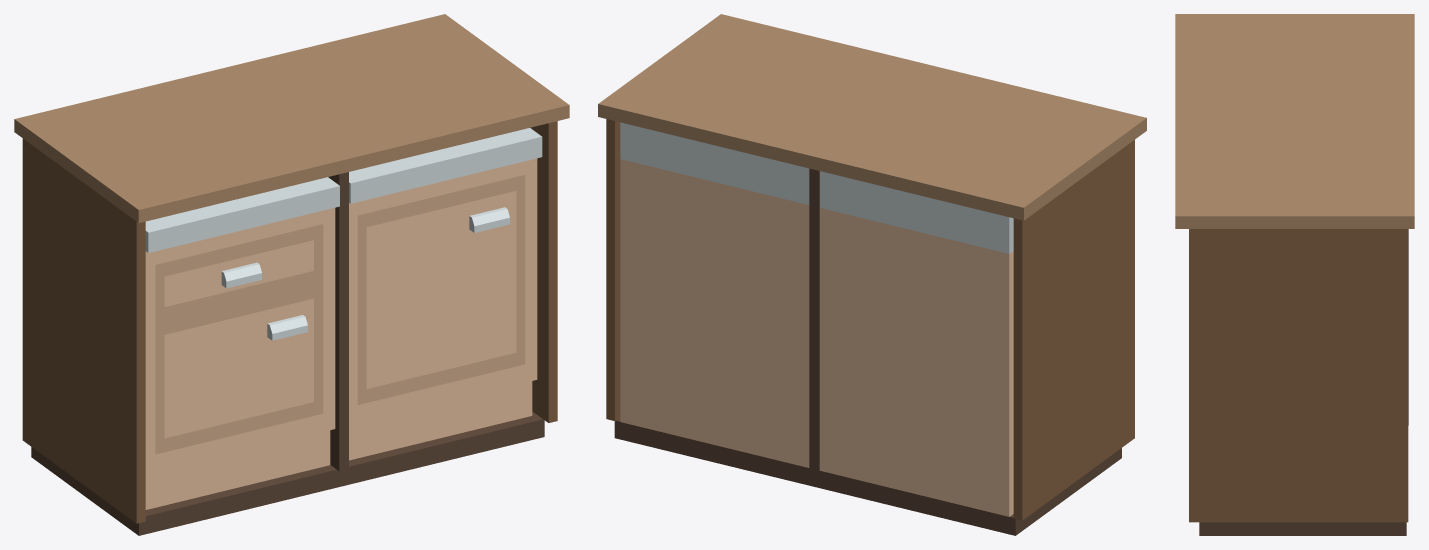
3 views of the same model, side by side, from view 1: azimuth 30°, elevation 25°; view 2: azimuth 150°, elevation 25°; view 3: azimuth 270°, elevation 25° (orthographic). The views are drawn at different scales.
Parts seen in each view (by area): view 1: countertop, Mesh_door (×2), left-end-panel, Mesh_kitchenCabinetDrawer_1, Mesh_kitchenCabinet_1, Mesh_door_1 (×2), wood-plinth, Mesh_kitchenCabinetDrawer, right-end-panel, Mesh_kitchenCabinet, Mesh_drawer, center-stile (+3 smaller); view 2: countertop, Mesh_kitchenCabinetDrawer_1, Mesh_kitchenCabinet_1, left-end-panel, wood-plinth, Mesh_kitchenCabinetDrawer, Mesh_kitchenCabinet, right-end-panel, center-stile; view 3: right-end-panel, countertop, wood-plinth.
Part boxes in pixels (x1=…): countertop: x1=14, y1=14, x2=569, y2=222; Mesh_door (×2): x1=164, y1=191, x2=516, y2=438; left-end-panel: x1=22, y1=138, x2=145, y2=523; Mesh_kitchenCabinetDrawer_1: x1=145, y1=207, x2=335, y2=509; Mesh_kitchenCabinet_1: x1=349, y1=158, x2=537, y2=460; Mesh_door_1 (×2): x1=155, y1=175, x2=525, y2=454; wood-plinth: x1=31, y1=411, x2=544, y2=535; Mesh_kitchenCabinetDrawer: x1=145, y1=177, x2=339, y2=252; right-end-panel: x1=530, y1=121, x2=557, y2=422; Mesh_kitchenCabinet: x1=349, y1=128, x2=542, y2=203; Mesh_drawer: x1=155, y1=224, x2=323, y2=323; center-stile: x1=328, y1=172, x2=348, y2=471; countertop: x1=598, y1=14, x2=1146, y2=220; Mesh_kitchenCabinetDrawer_1: x1=820, y1=208, x2=1013, y2=516; Mesh_kitchenCabinet_1: x1=620, y1=159, x2=809, y2=467; left-end-panel: x1=1013, y1=140, x2=1134, y2=520; wood-plinth: x1=614, y1=418, x2=1121, y2=535; Mesh_kitchenCabinetDrawer: x1=820, y1=171, x2=1013, y2=253; Mesh_kitchenCabinet: x1=620, y1=122, x2=809, y2=204; right-end-panel: x1=606, y1=119, x2=620, y2=420; center-stile: x1=809, y1=168, x2=819, y2=470; right-end-panel: x1=1189, y1=229, x2=1408, y2=522; countertop: x1=1175, y1=14, x2=1414, y2=228; wood-plinth: x1=1199, y1=522, x2=1406, y2=535.
Bounding box in the file's own units: 1.2 × 0.9 × 0.6.
